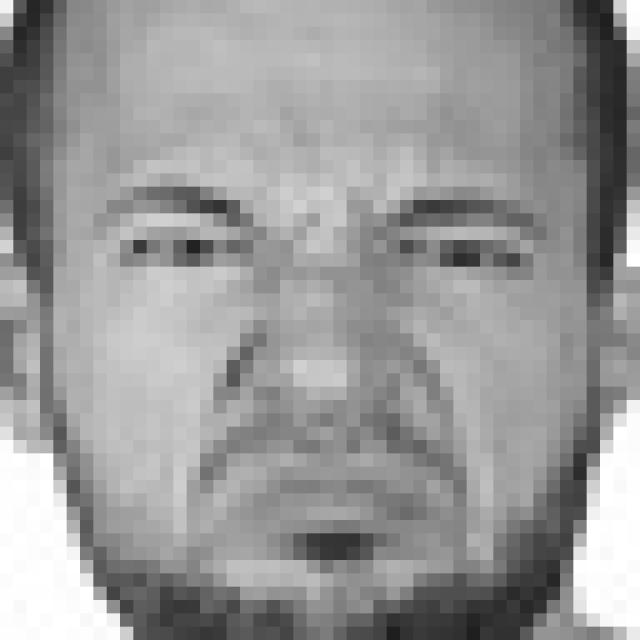disgust: (88, 170, 558, 568)
